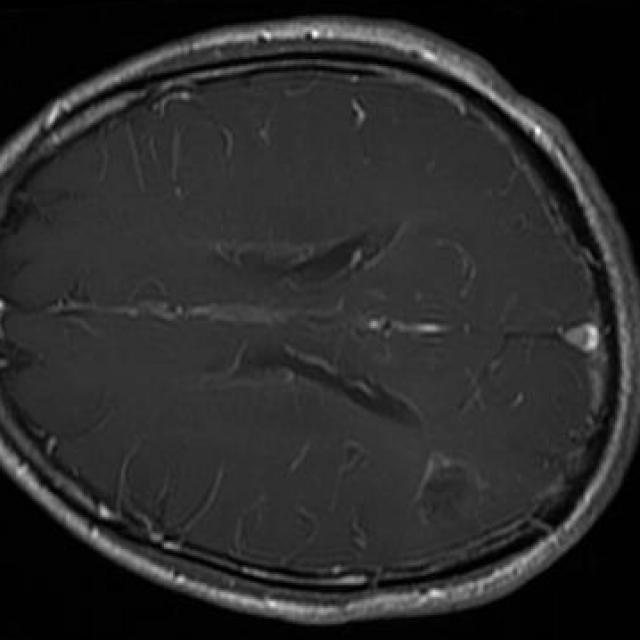glioma: (417, 453, 478, 515)
